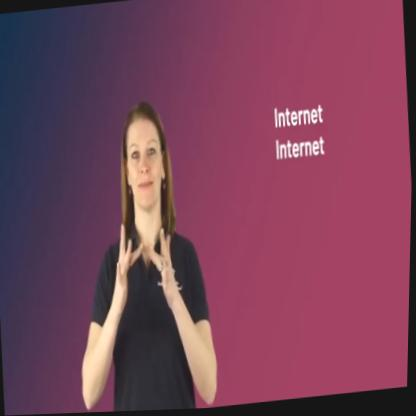Internet: (110, 219, 185, 322)
